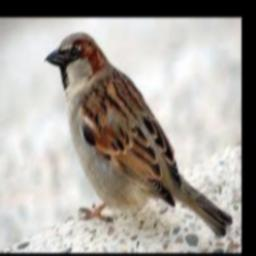Sparrow: (44, 33, 232, 237)
